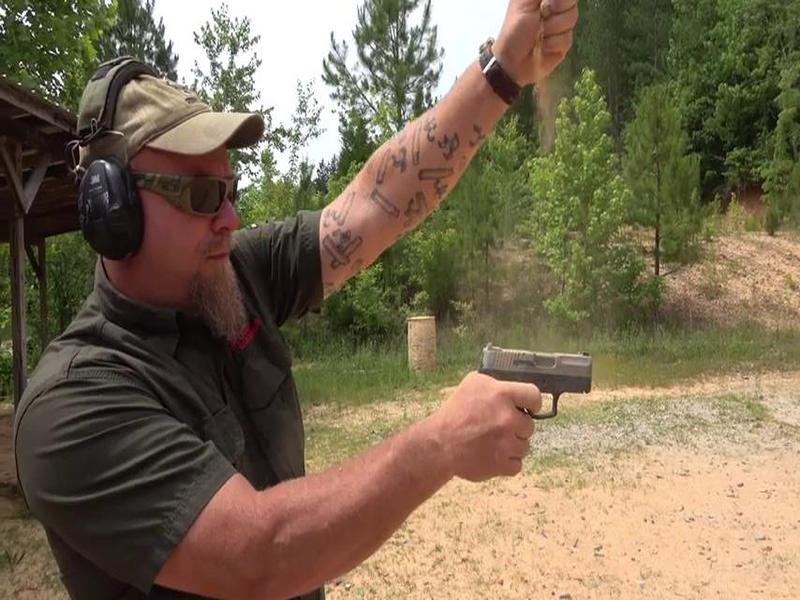Pistola: (455, 316, 609, 441)
